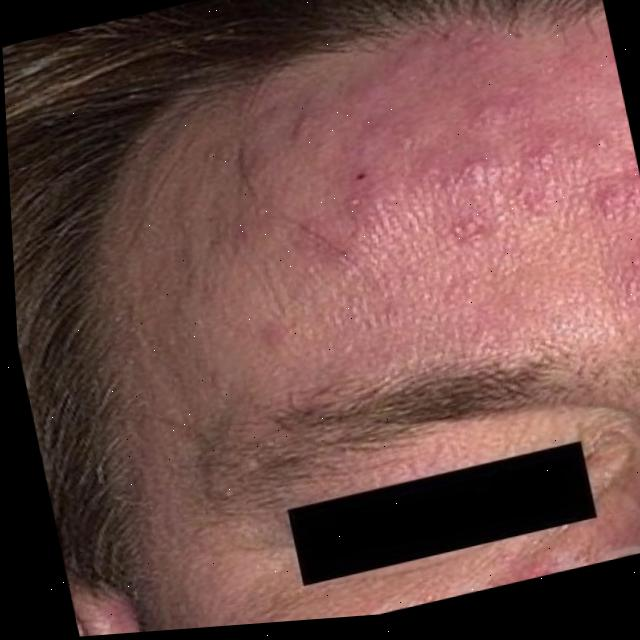Rosacea: (287, 30, 640, 326)
